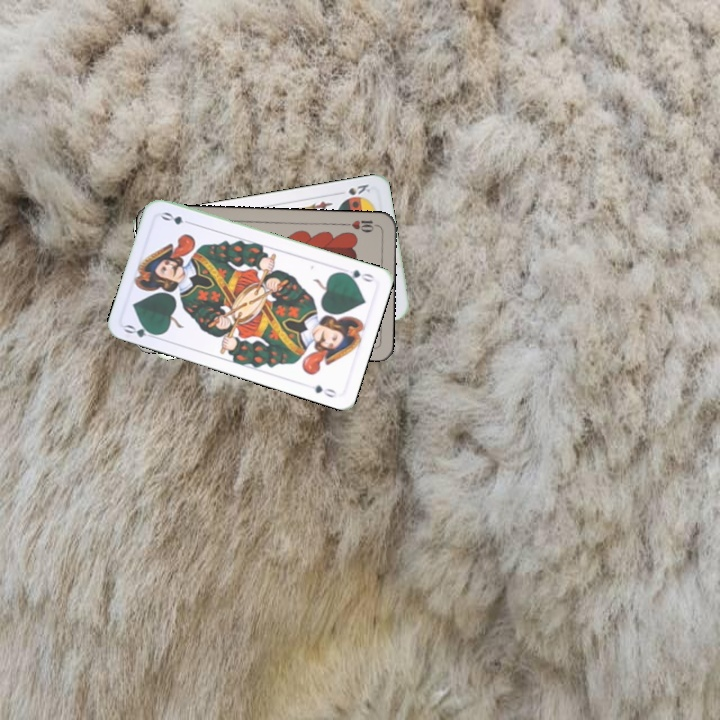GO: (120, 321, 161, 342), (337, 265, 376, 285)
H10: (340, 216, 381, 235)
SK: (344, 180, 373, 198)
